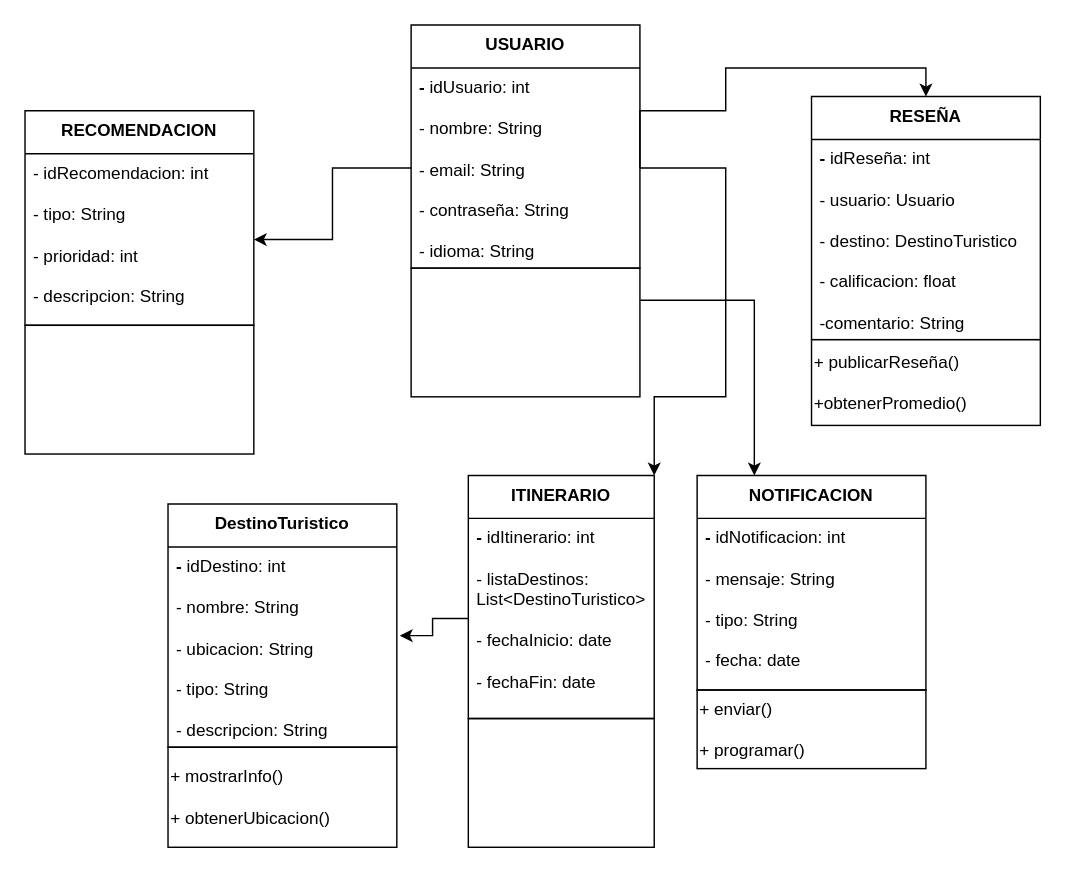
This 1065x872 diagram has some shape labels left out. Each missing label, with the centre of its shape:
+ generarRecomendacion() +obtenerHistorial(): [139,389]
+ generarRuta() + agregarDestino() +eliminarDestino(): [560,782]
+ registrar() +iniciarSesion() +cerrarSesion(): [525,332]
